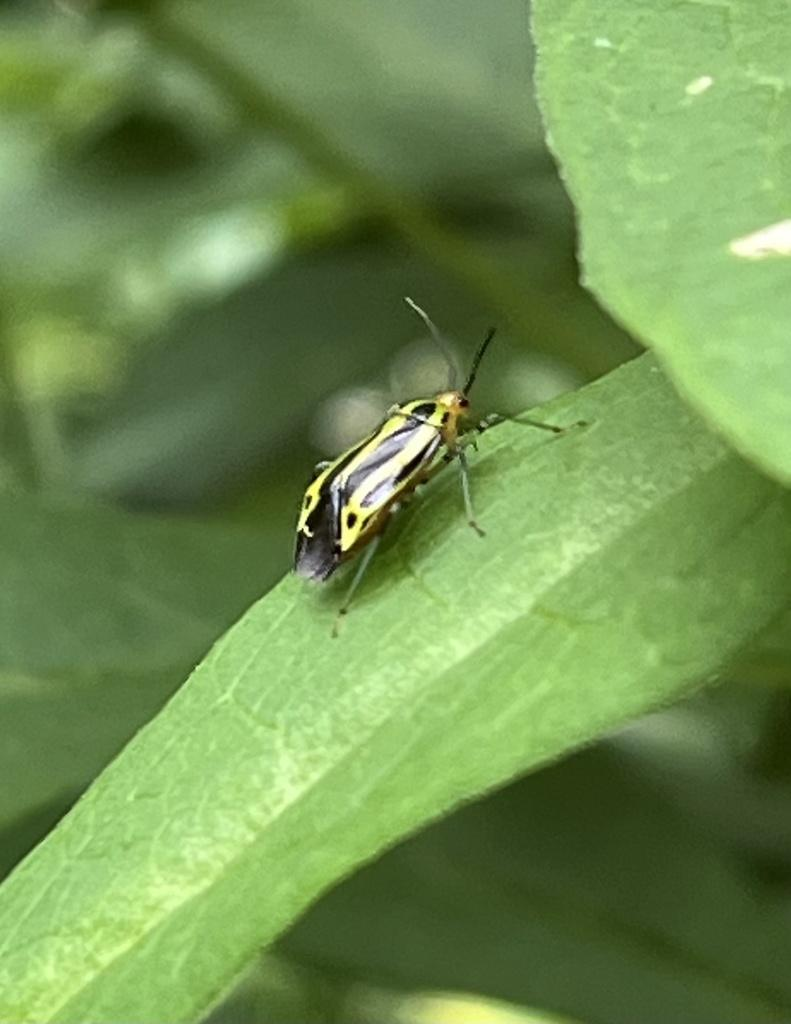plant_bugs: (241, 263, 580, 636)
